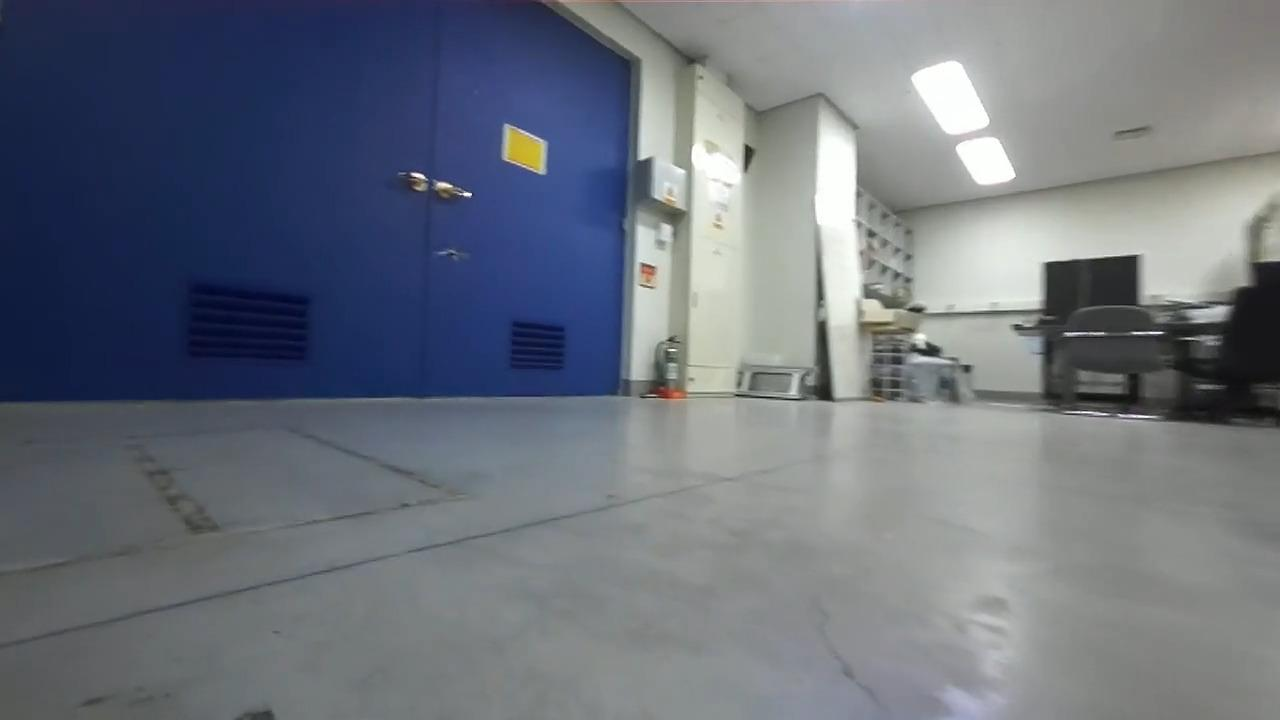crazyflie: (425, 244, 474, 265)
